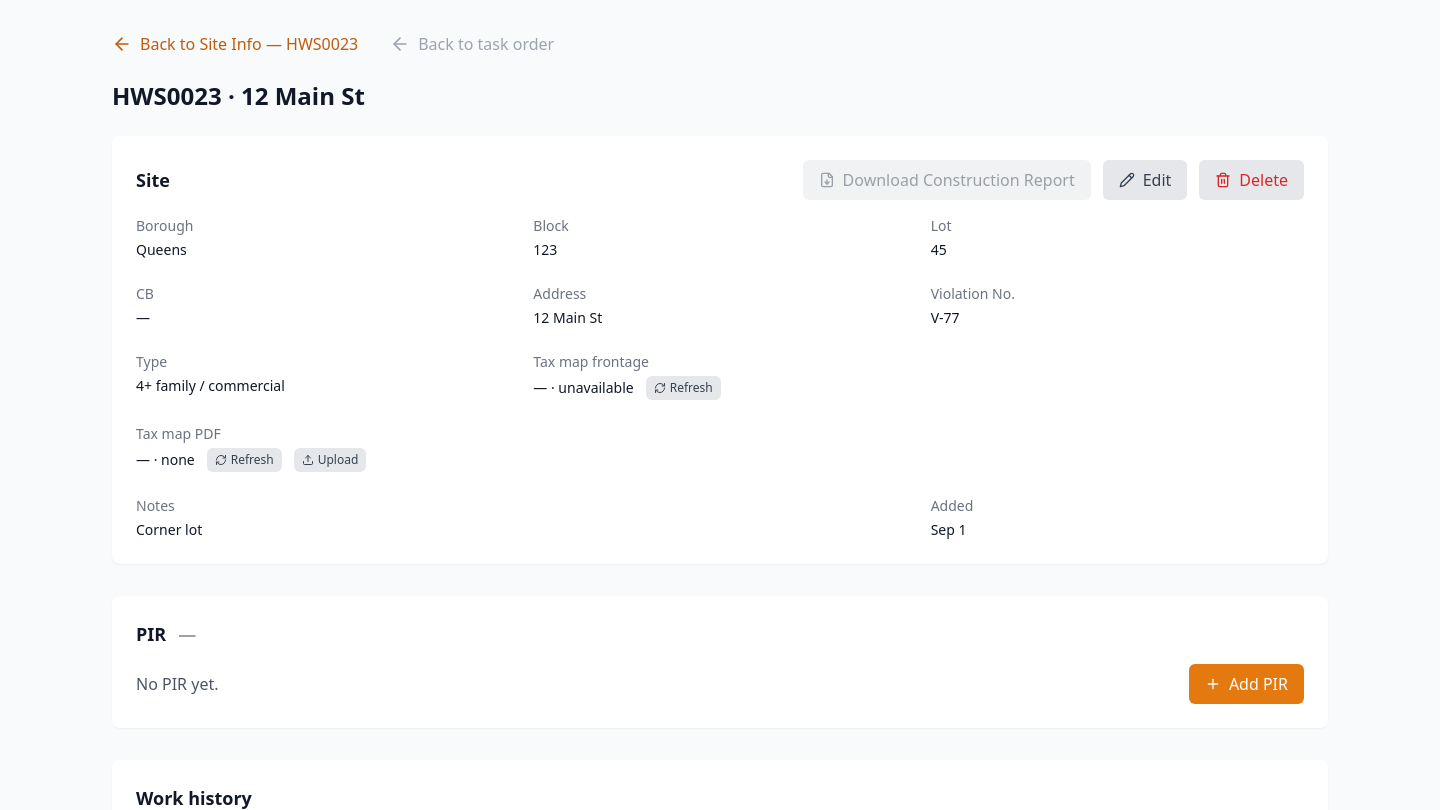
Test: PropertyPage — the property › edits the property in its pre-filled dialog
Expected: the heading "HWS0023 · 12 Main St" is shown, [112,80,365,112]
Click the button "Edit" at [1145, 180], box [1103,160,1187,200]
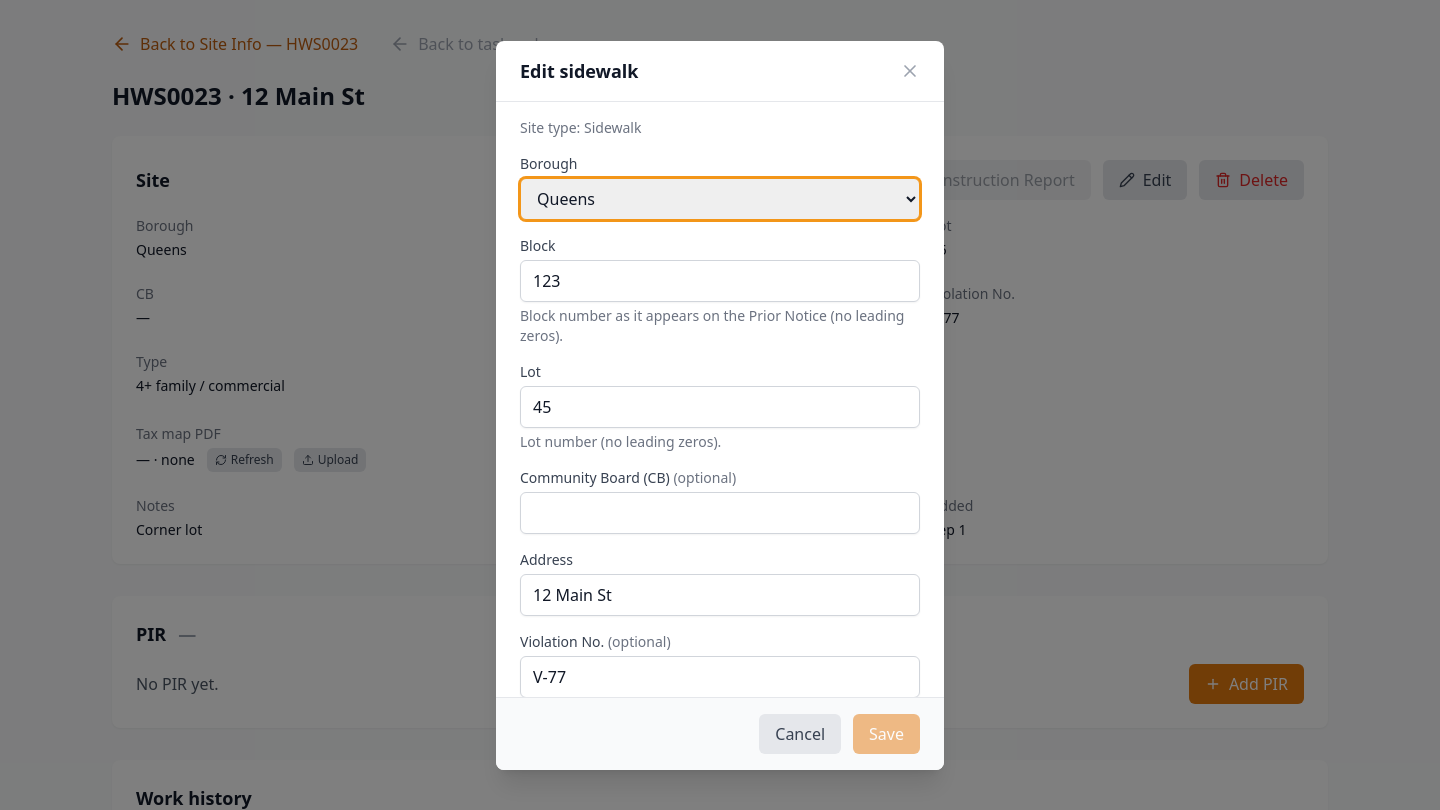
Result: the text "Site type: Sidewalk" is shown at [520,118,642,136]
Replace the text in the field labelled "Address" with "14 Main St" at [720, 594], box [520,574,920,616]
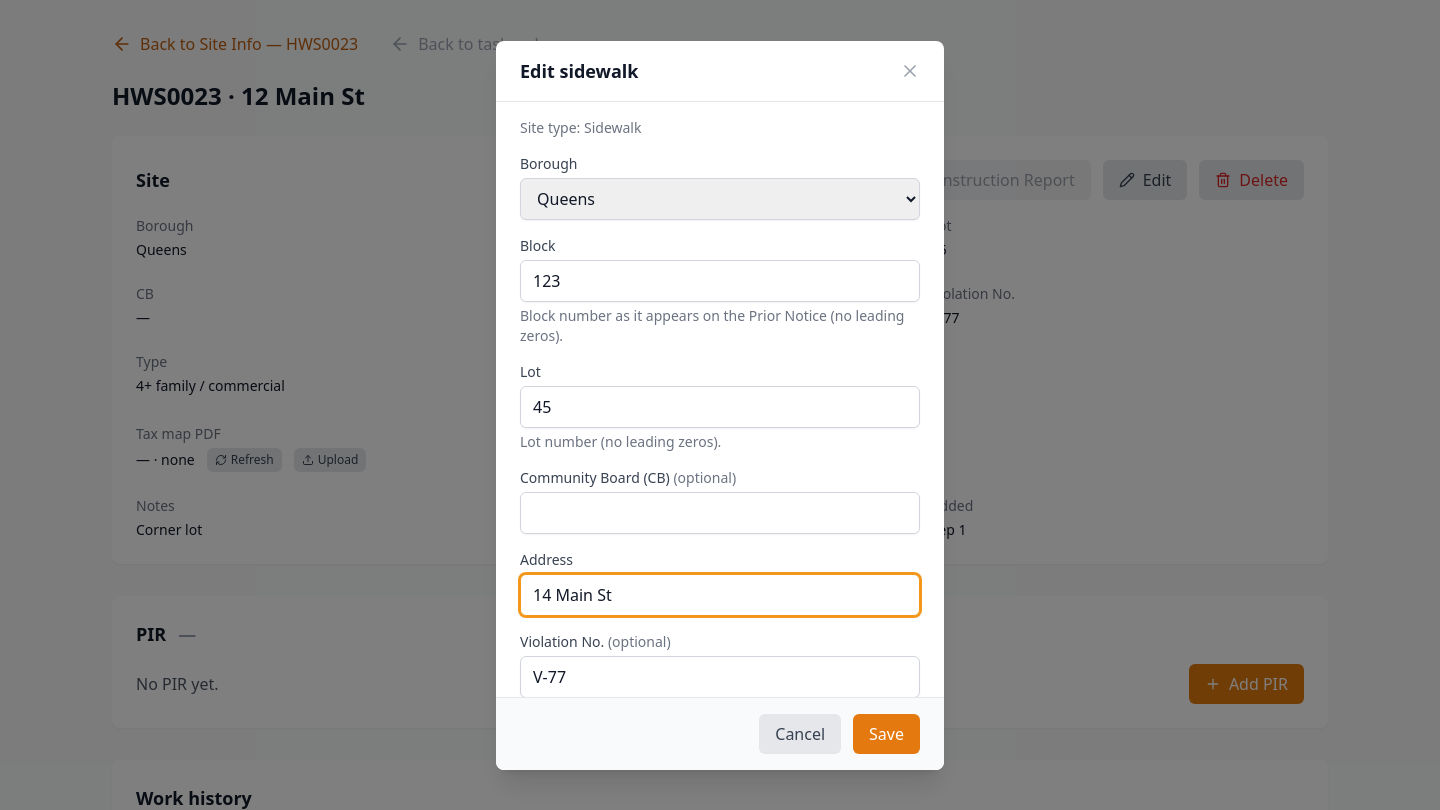
Click the button "Save" at [887, 734], box [853,714,920,754]
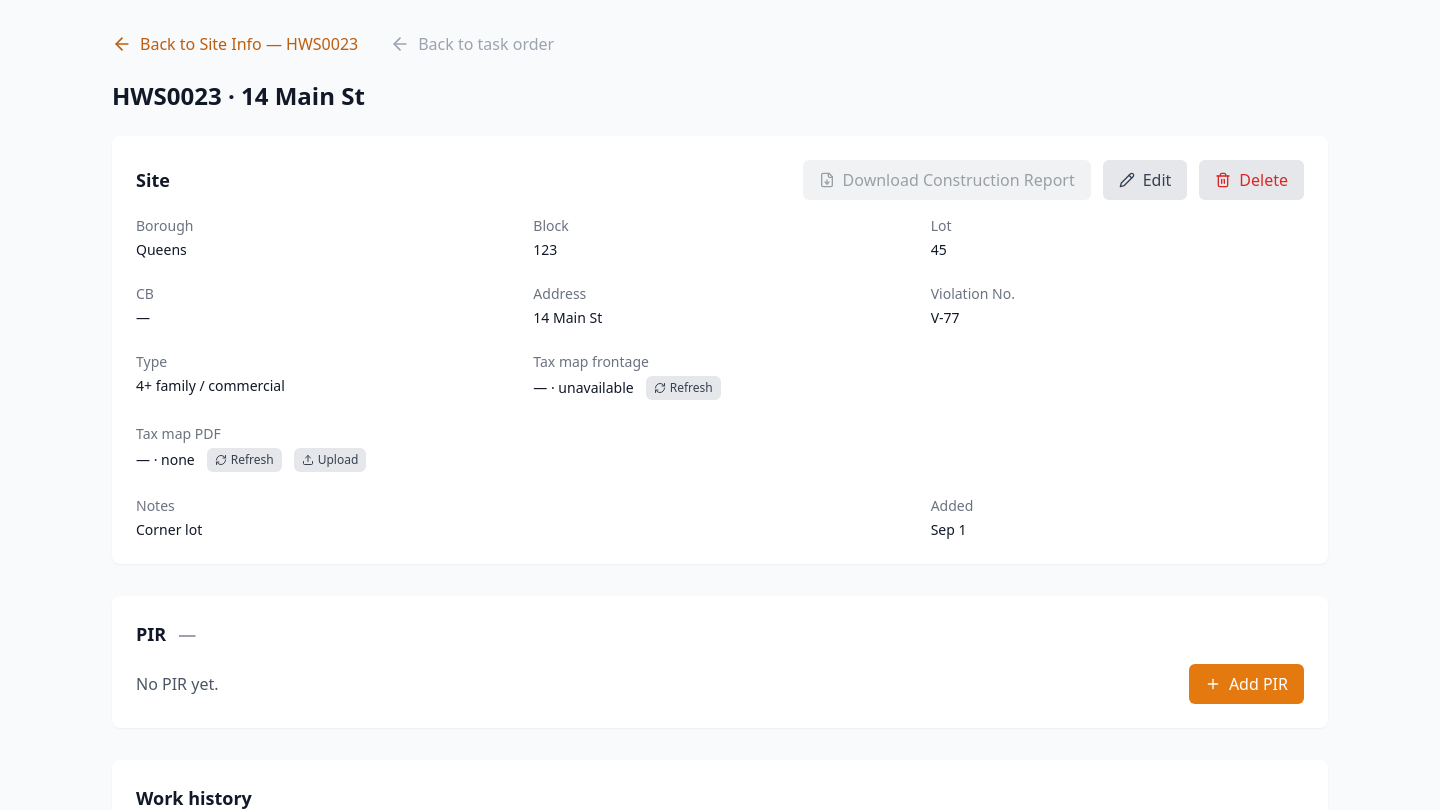
Result: the dialog is gone
Result: the heading "HWS0023 · 14 Main St" is shown at [112,80,365,112]
